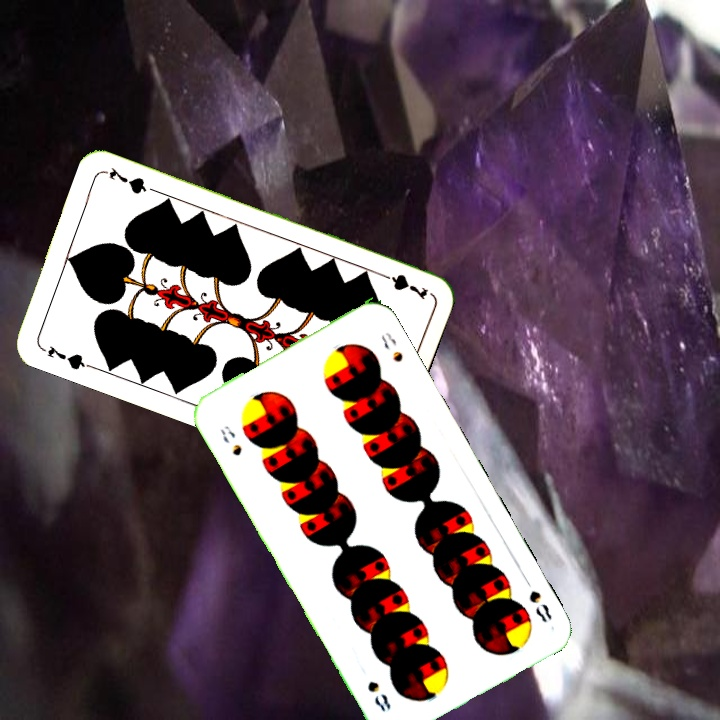G7: (373, 267, 431, 303), (37, 341, 94, 373)
S8: (519, 572, 555, 625), (216, 421, 245, 459)
